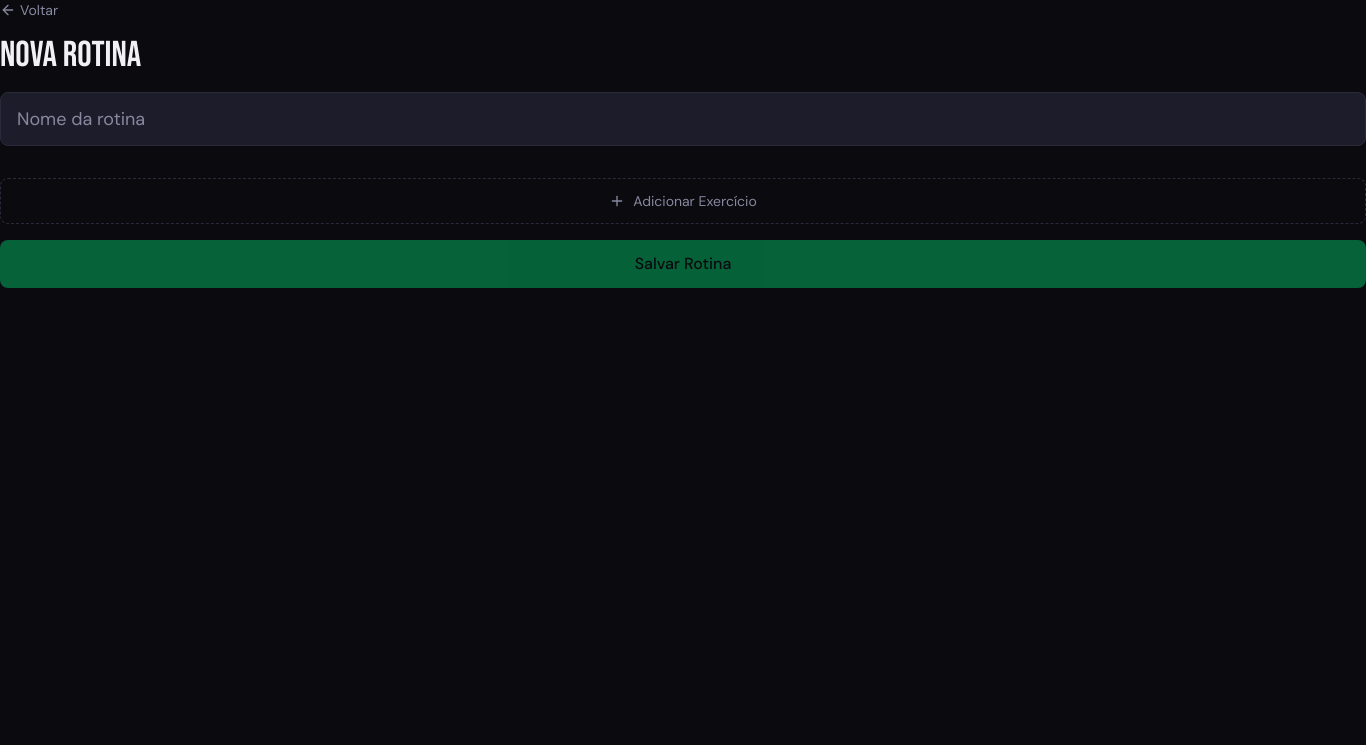
Test: RoutineEditor › removes an exercise from the routine
The width and height of the screenshot is (1366, 745).
Click the button "Adicionar Exercício" at coordinates (683, 201), box left=0, top=178, right=1365, bottom=224
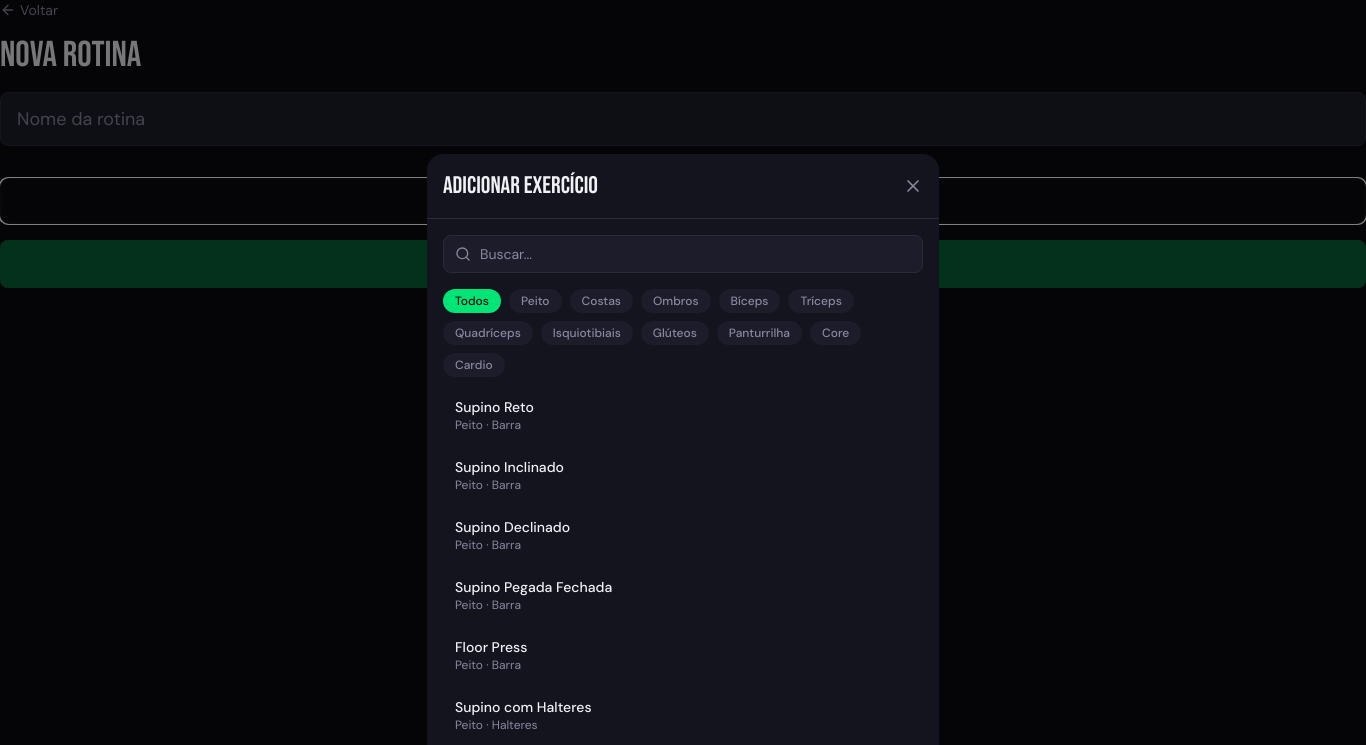
Click the text "Supino Reto" at coordinates (494, 407), box left=455, top=397, right=534, bottom=417
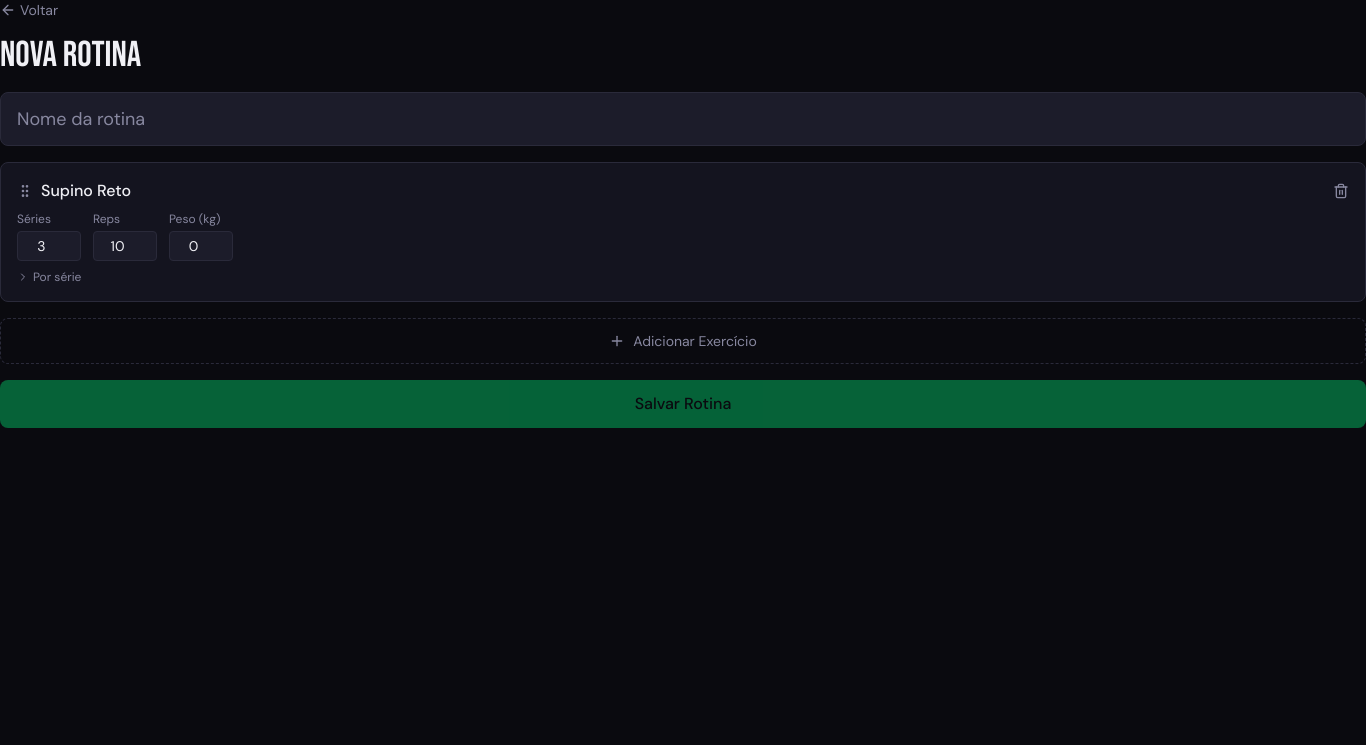
Click the button named "Remover exercício" at coordinates (1341, 191), box left=1333, top=183, right=1349, bottom=199
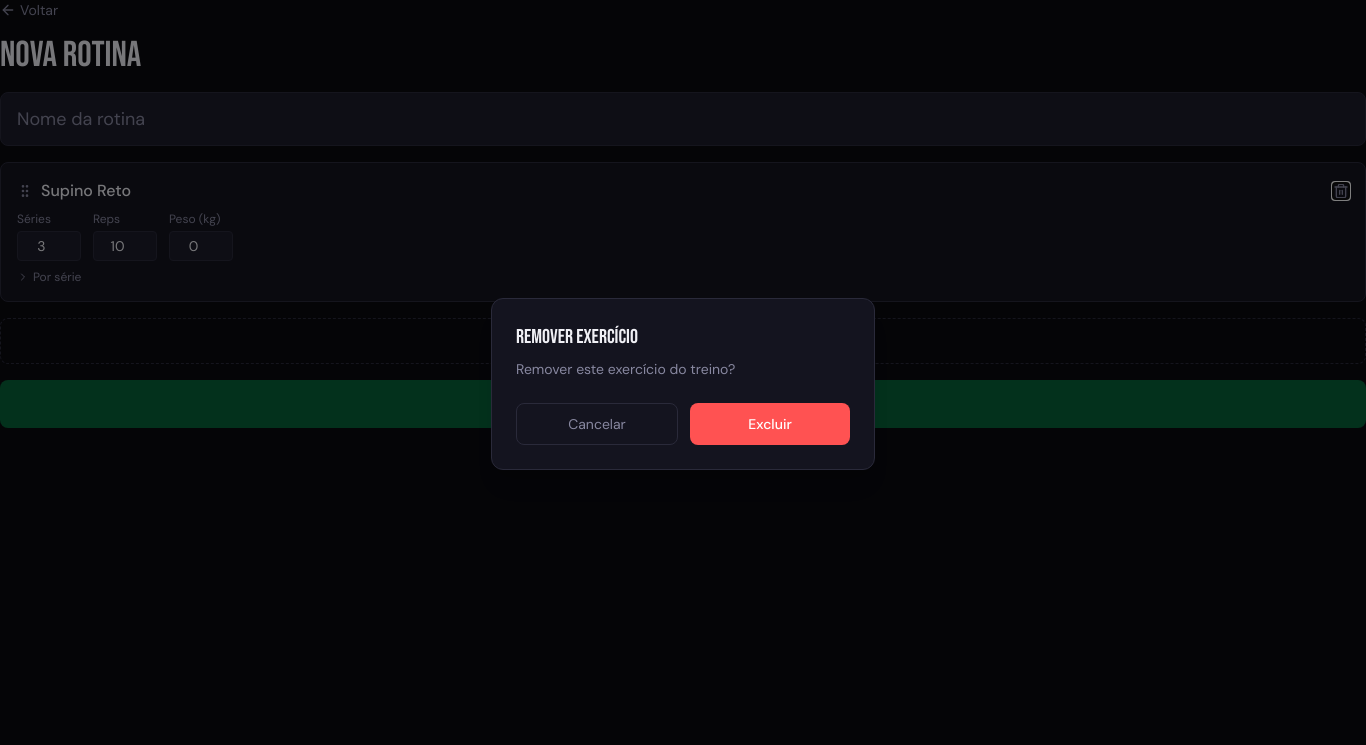
Click the button "Excluir" at coordinates (770, 424), box left=690, top=403, right=850, bottom=445
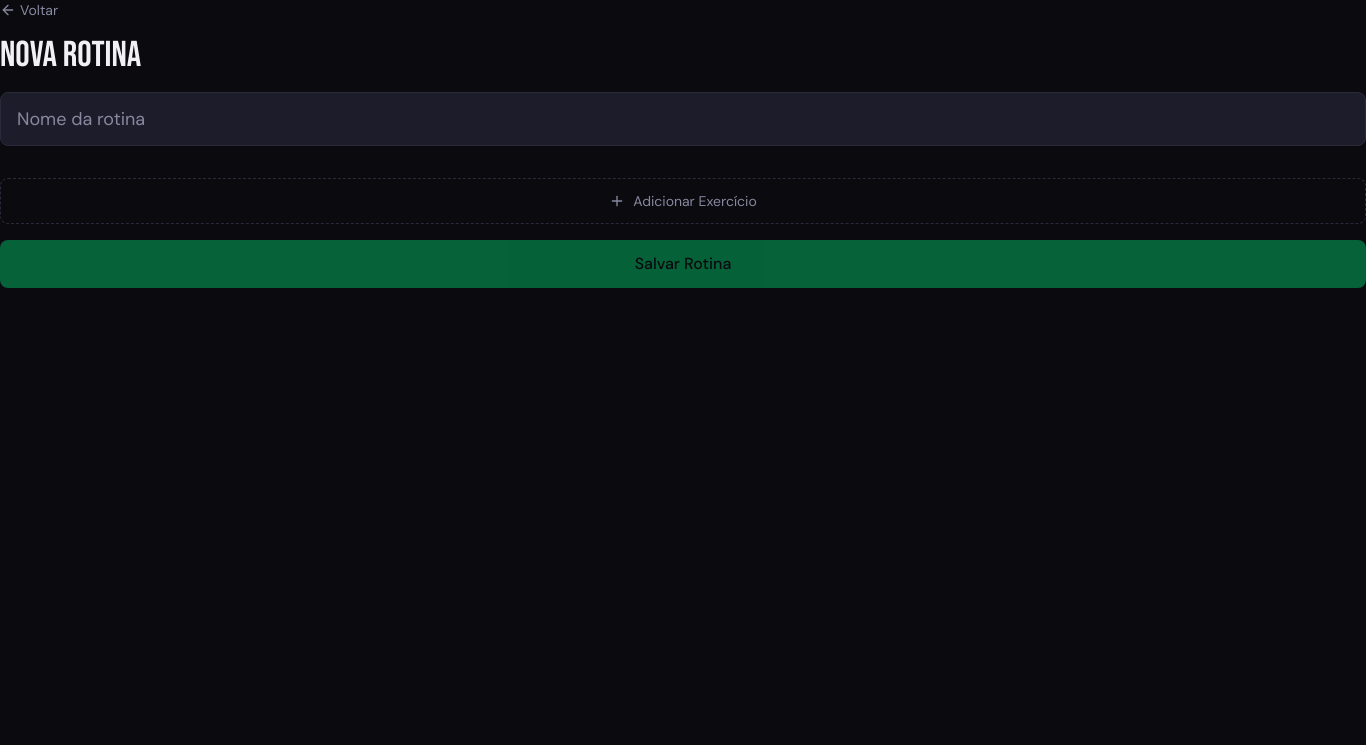
Check: the heading "Supino Reto" is gone
